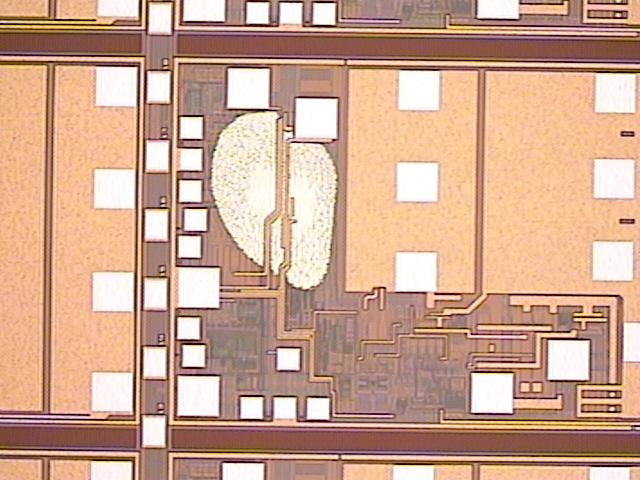BLOCK ETCH: (201, 107, 346, 297)
